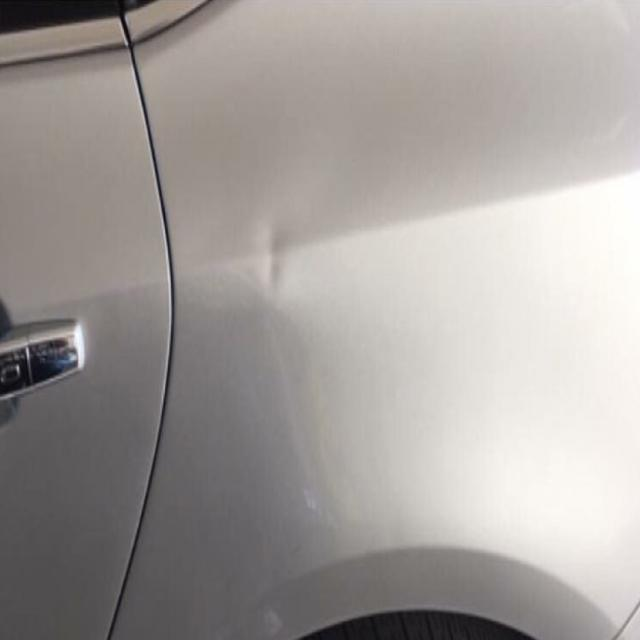dents: (261, 205, 299, 303)
